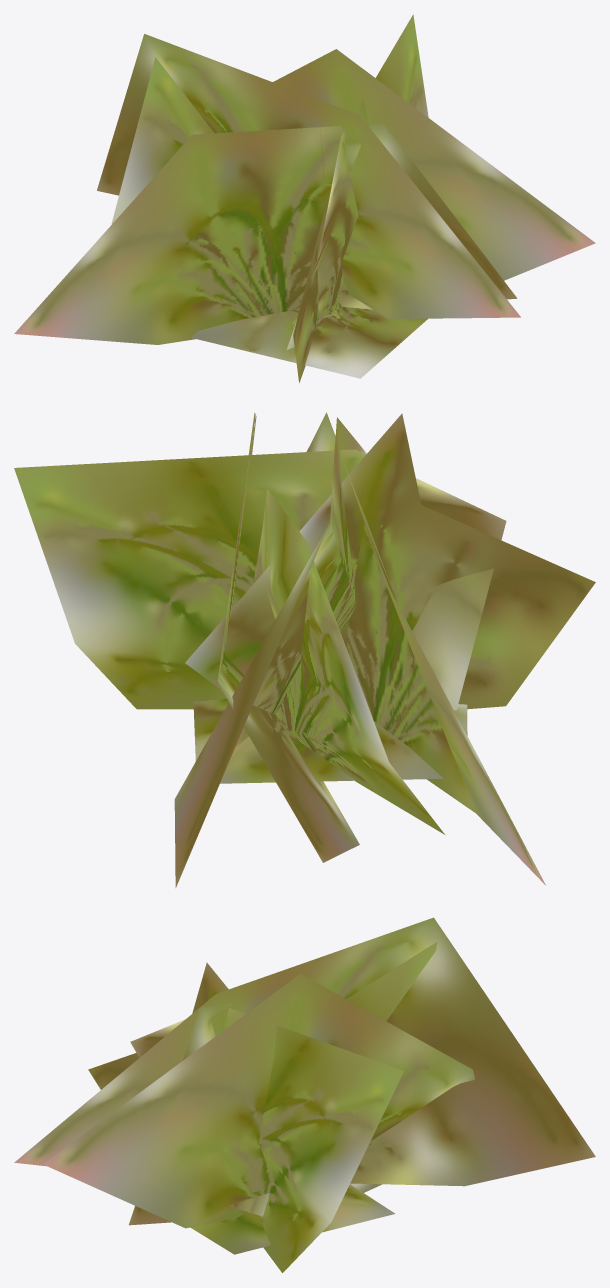
The model's file is grass_clump_b.glb.
3 renders of one model, top to bottom at view 1: azimuth 30°, elevation 25°; view 2: azimuth 150°, elevation 25°; view 3: azimuth 270°, elevation 25°, orthographic. The views are drawn at different scales.
Visible parts, largest first — view 1: grass_clump_b; view 2: grass_clump_b; view 3: grass_clump_b.
Part boxes in pixels (bbox=[...]): grass_clump_b: bbox=[14, 14, 595, 382]; grass_clump_b: bbox=[14, 412, 595, 887]; grass_clump_b: bbox=[14, 917, 595, 1272].
Size of the model in its own units: 1.67 by 1.1 by 2.12.
Materials: 1 (1 with a texture image).
